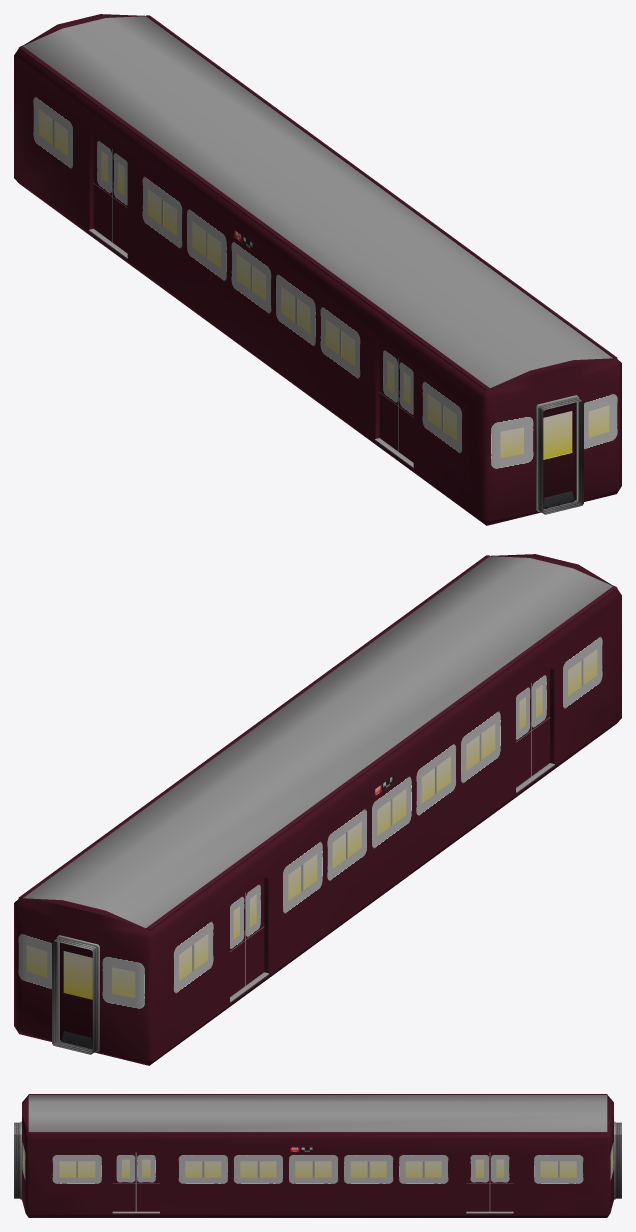
The picture shows the model from 3 angles, top to bottom: view 1: azimuth 30°, elevation 25°; view 2: azimuth 150°, elevation 25°; view 3: azimuth 270°, elevation 25°; orthographic projection. The views are drawn at different scales.
Parts seen in each view (by area): view 1: IN; view 2: IN; view 3: IN.
Boxes of the visible parts, x1,y1,x2,y2 form: IN: (14, 14, 621, 525); IN: (14, 554, 621, 1065); IN: (14, 1094, 621, 1217).
Bounding box in the file's own units: 6.59 × 6.42 × 39.52.
Materials: 8 (7 with a texture image).
